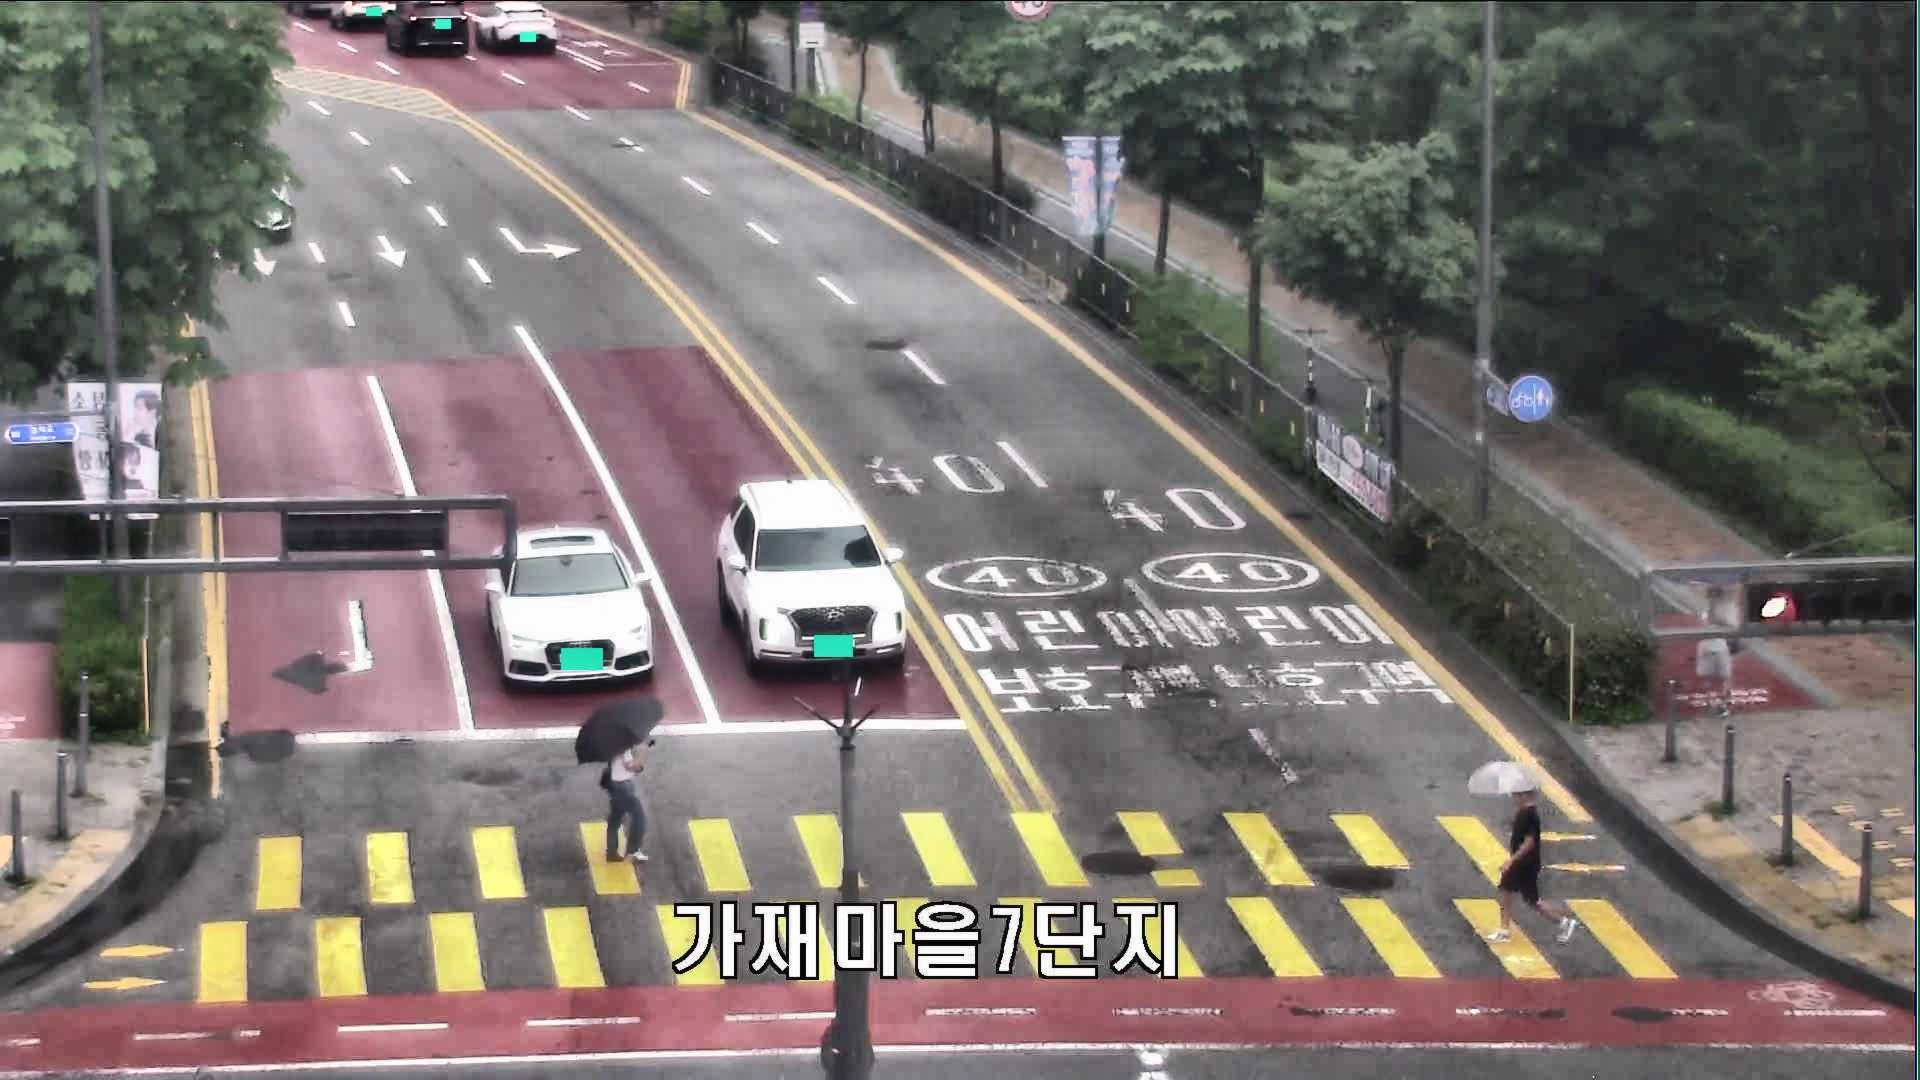um_crosswalk: (1466, 764, 1578, 949), (576, 698, 665, 862)
um_sidewalk: (1677, 554, 1774, 723)
